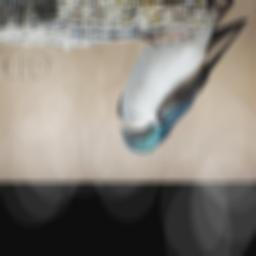Swallow: (116, 0, 250, 153)
